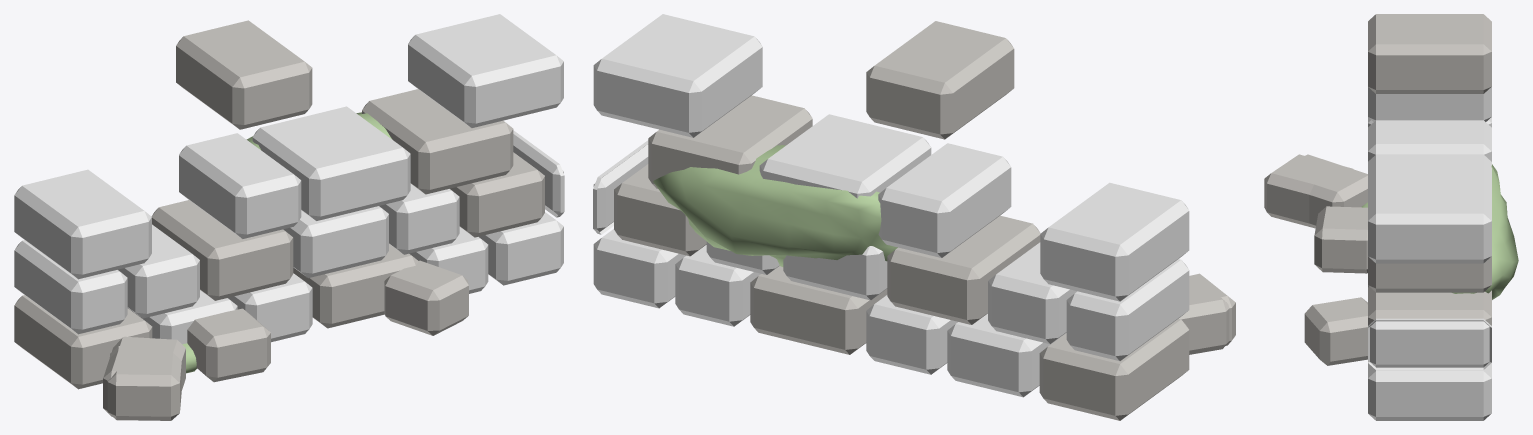
Rendered from prop_ruin.glb.
3 views of the same model, side by side, from view 1: azimuth 30°, elevation 25°; view 2: azimuth 150°, elevation 25°; view 3: azimuth 270°, elevation 25° (orthographic). The views are drawn at different scales.
Visible parts, largest first — view 1: prop_ruin; view 2: prop_ruin; view 3: prop_ruin.
Part boxes in pixels (x1=…): prop_ruin: x1=14, y1=14, x2=564, y2=420; prop_ruin: x1=593, y1=14, x2=1235, y2=420; prop_ruin: x1=1264, y1=14, x2=1518, y2=420.
Size of the model in its own units: 3.95 by 2.1 by 1.85.
